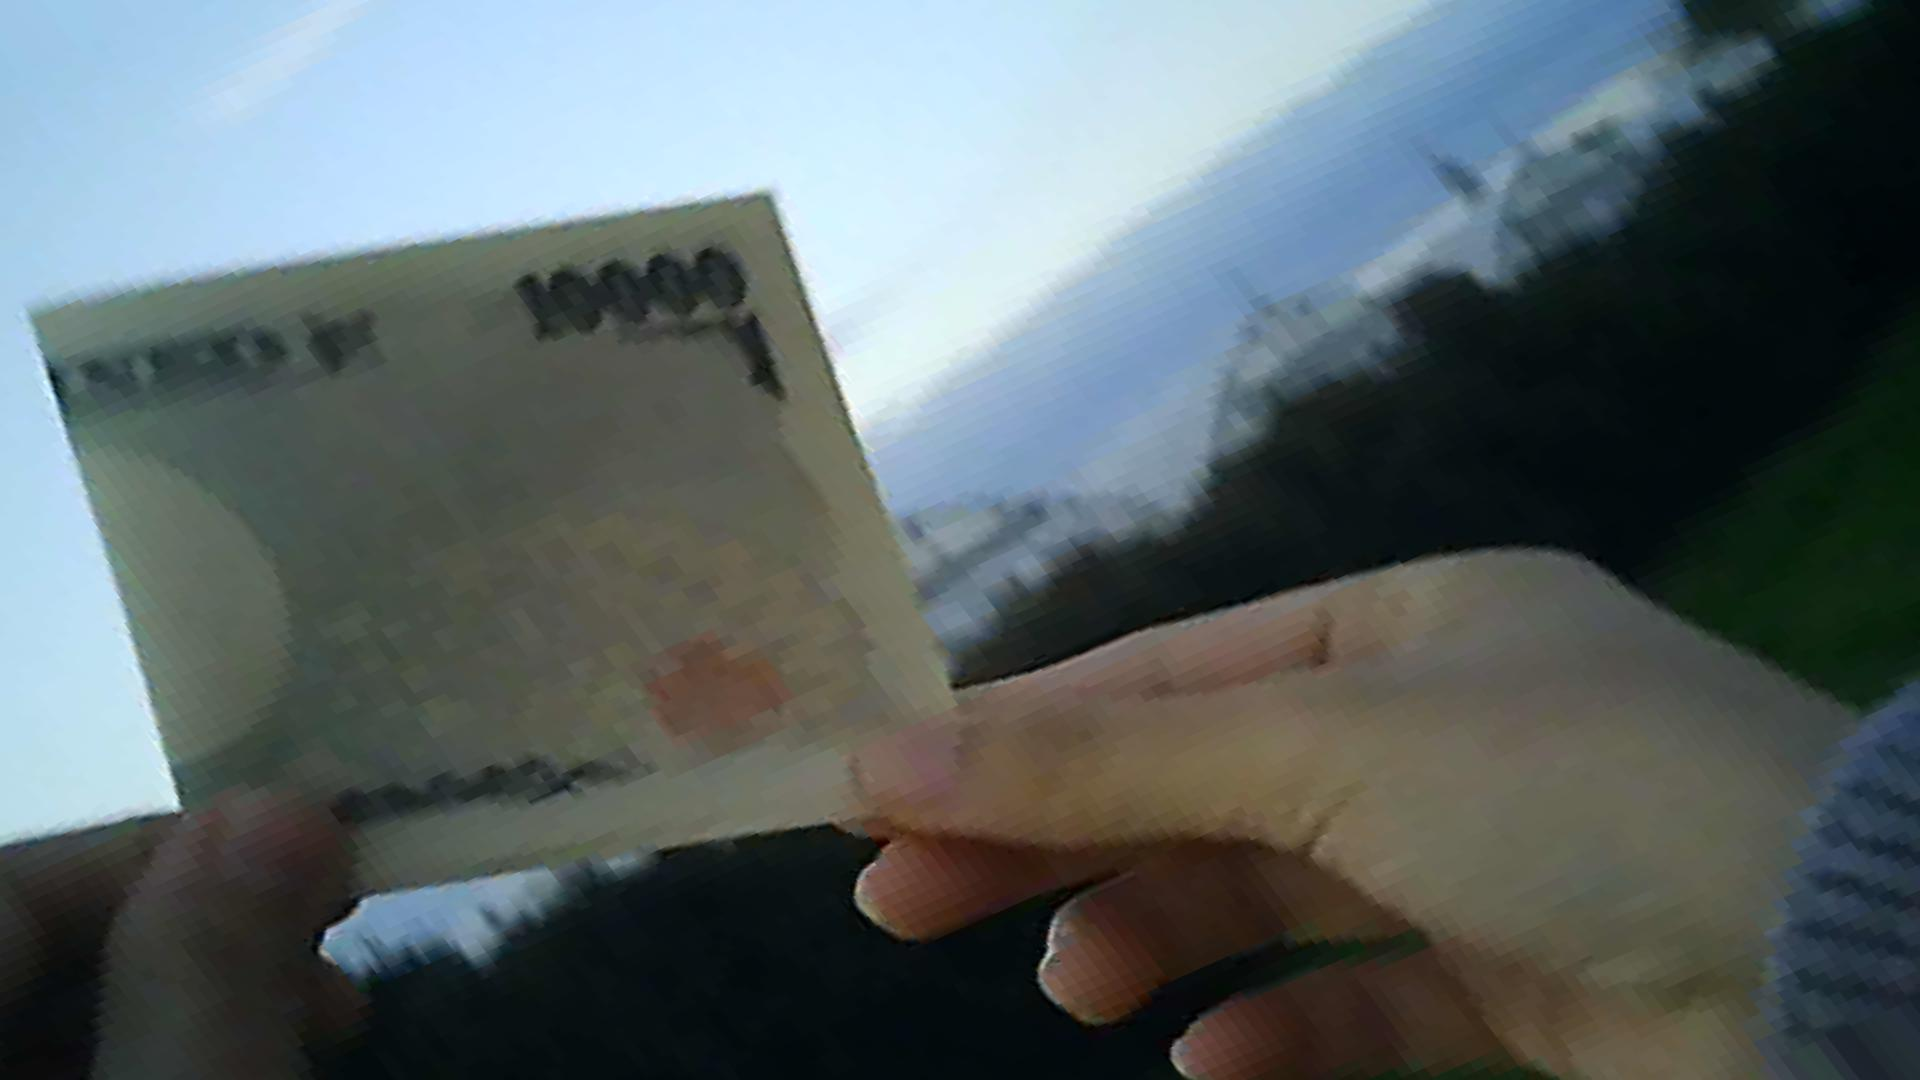10,000 Yen: (32, 187, 951, 862)
